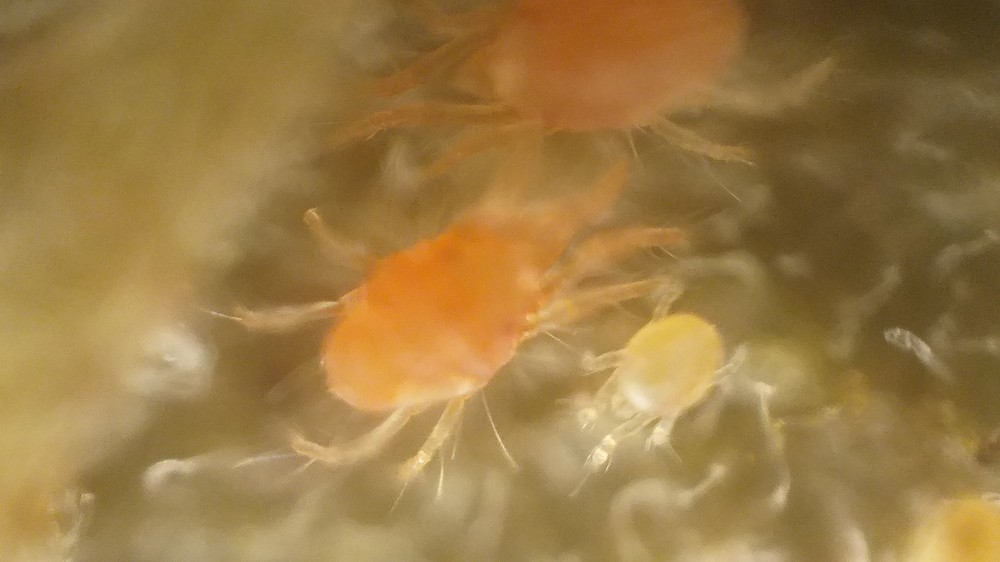Aracnido Rojo: (238, 162, 645, 473), (341, 5, 844, 182), (579, 293, 764, 480)
